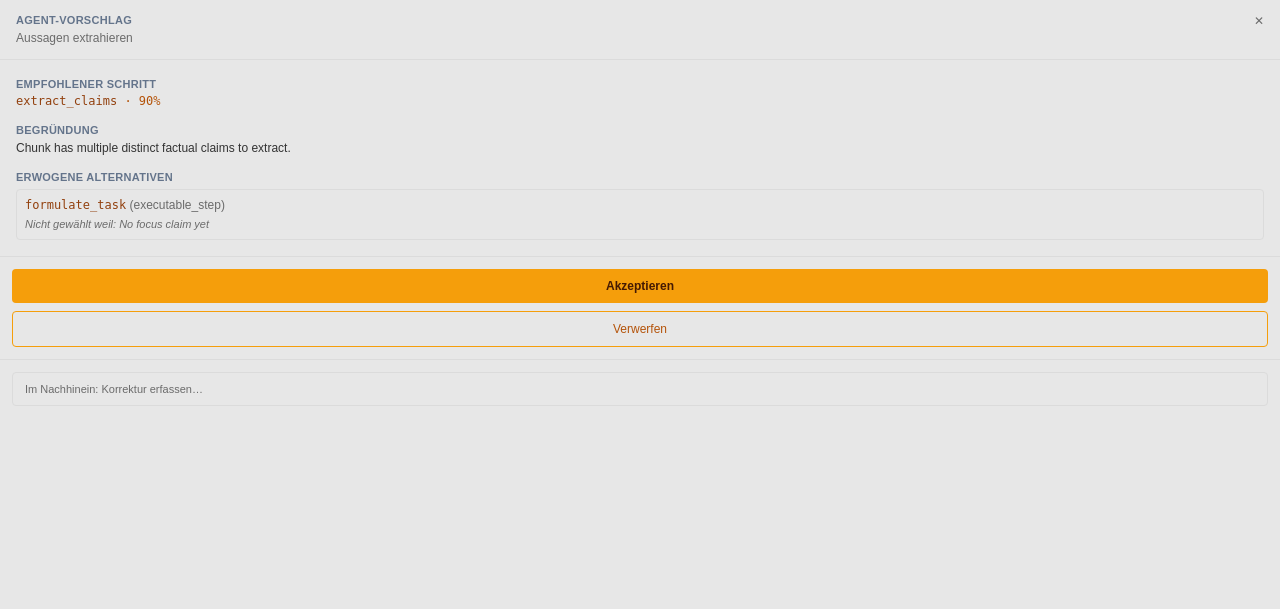
Test case: PlanProposalPanel — Verwerfen morph › first Verwerfen click morphs button into inline form
Click the button "Verwerfen".
click(640, 328)  # box [12,310,1268,346]
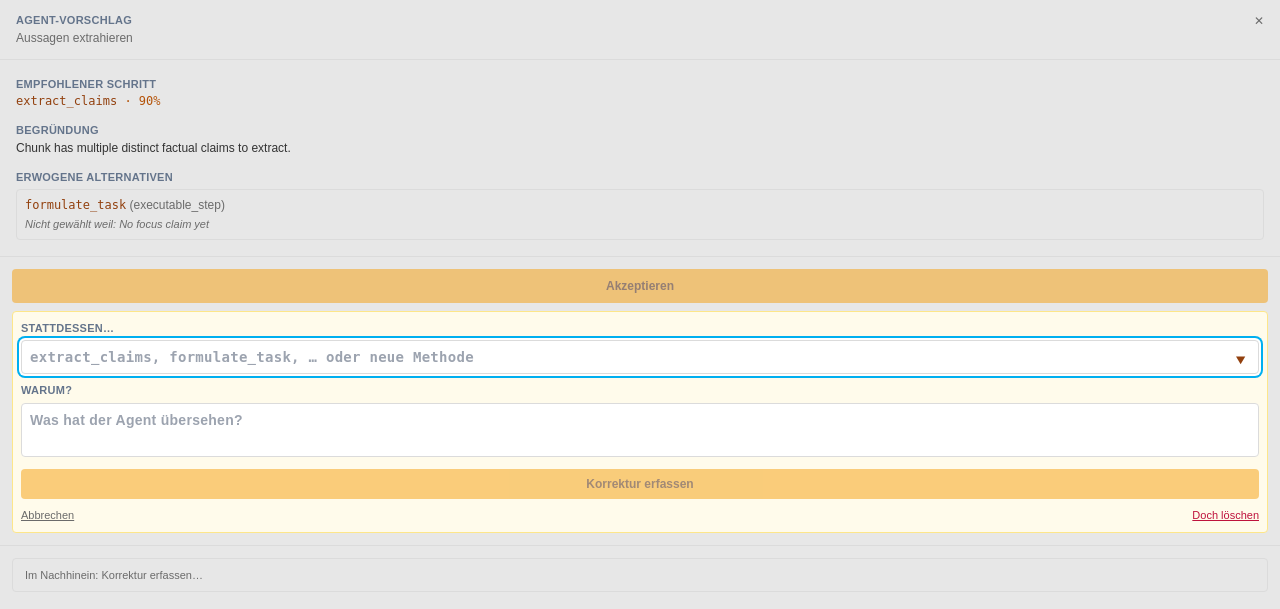
Now the field labelled "Stattdessen…" is shown, box [21,340,1259,374]
Now the text box labelled "Warum?" is shown, box [21,402,1259,456]
Now the button "Korrektur erfassen" is shown, box [21,469,1259,499]
